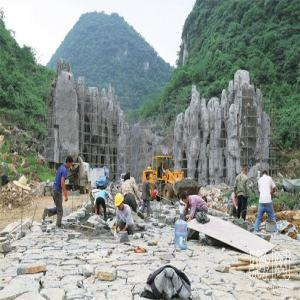none: (65, 157, 73, 172), (182, 193, 190, 207), (242, 166, 249, 178), (263, 168, 269, 180), (146, 171, 152, 182)
yellow: (115, 195, 126, 213)
